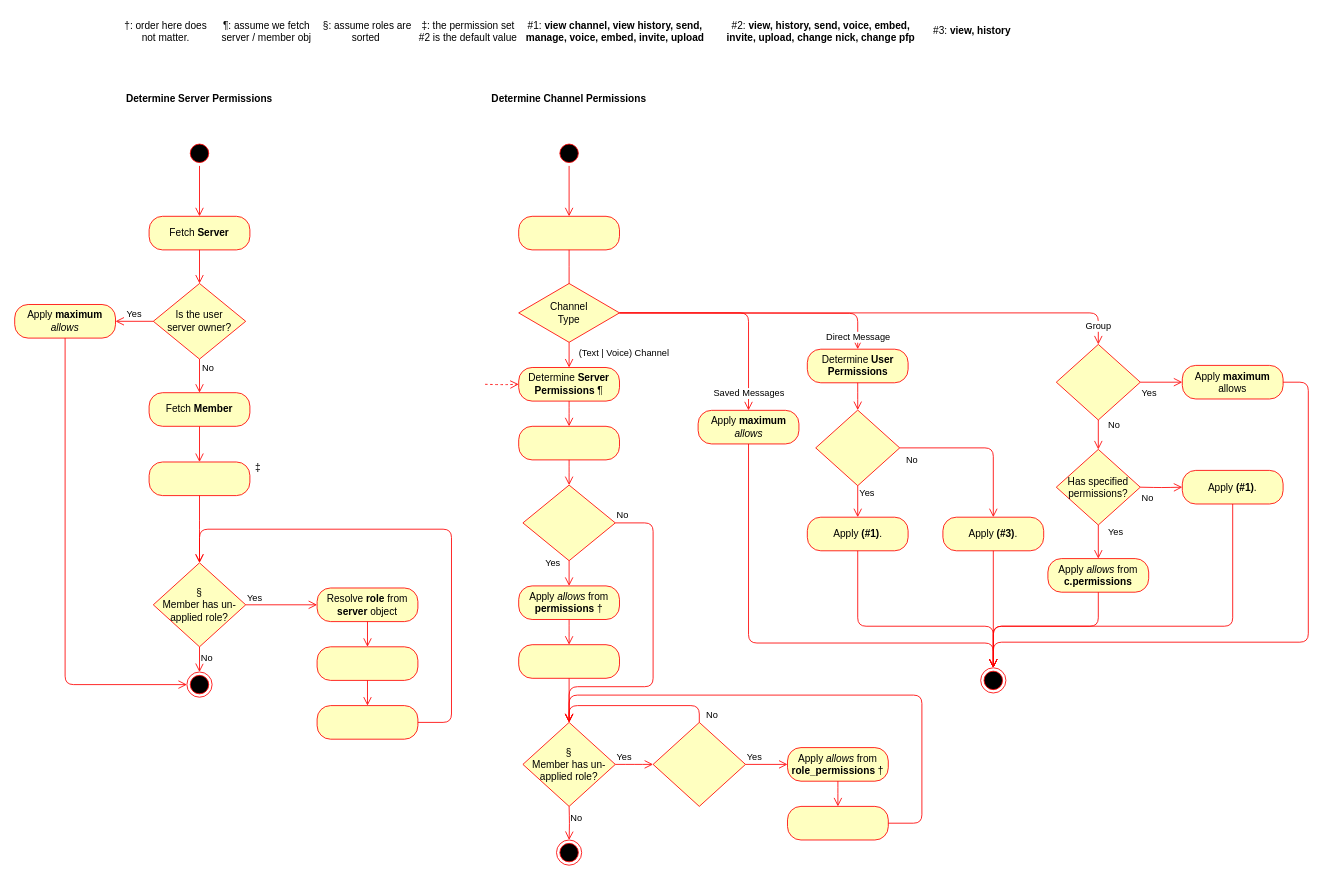
The diagram is 1331 pixels wide and 879 high, and some of its shapes have lost their labels. Here are the shapes that lost their labels. From the top down, the centre of each, then its label:
At point 569,232: "Fetch Channel".
At point 1097,382: "Is user group owner?".
At point 569,442: "Apply allows and denies.".
At point 857,447: "Has send perm?".
At point 199,478: "Apply allows from default_permission".
At point 568,522: "Has default permissions?".
At point 367,663: "Apply allows from role_permission †".
At point 569,661: "Apply denies from permissions".
At point 367,722: "Apply denies from role_permission".
At point 699,764: "Role has overrides".
At point 837,823: "Apply denies from role_permissions".
